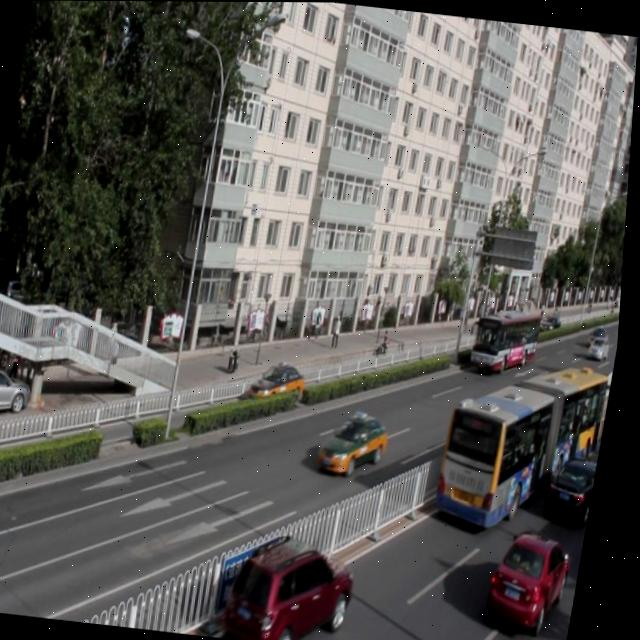car: (228, 529, 364, 640), (489, 526, 579, 633), (320, 406, 396, 477), (550, 452, 604, 517), (251, 357, 309, 405)
van: (435, 354, 612, 539), (473, 301, 546, 372)
